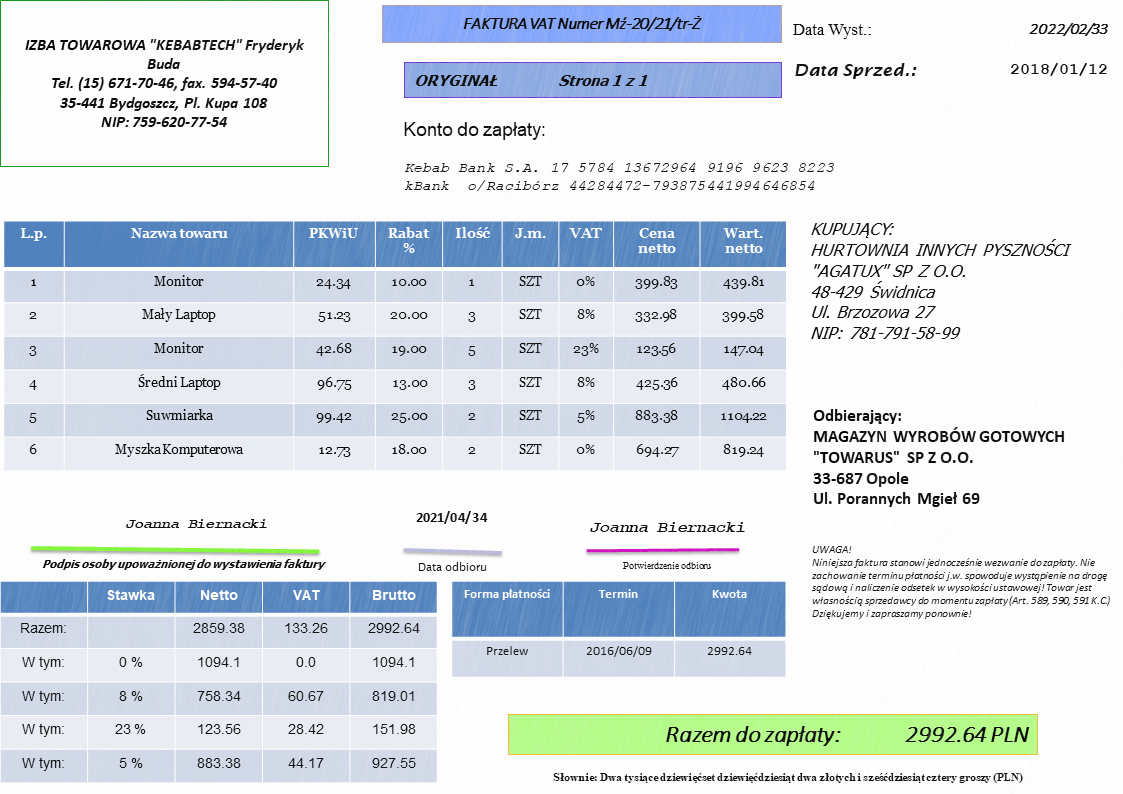Table: (2, 220, 787, 471), (1, 580, 439, 783), (451, 581, 786, 678)
TextBox: (808, 218, 1073, 343), (23, 36, 307, 132), (811, 406, 1067, 510), (810, 541, 1113, 621), (403, 159, 838, 195), (663, 723, 1031, 749), (550, 769, 1025, 786), (461, 14, 704, 34), (40, 555, 325, 572), (413, 70, 652, 89), (401, 118, 548, 143), (793, 59, 917, 82), (587, 519, 746, 536), (124, 516, 268, 532), (1007, 59, 1110, 78), (1025, 20, 1112, 38), (790, 20, 872, 39), (413, 508, 489, 528), (621, 559, 713, 572), (415, 560, 487, 574)
